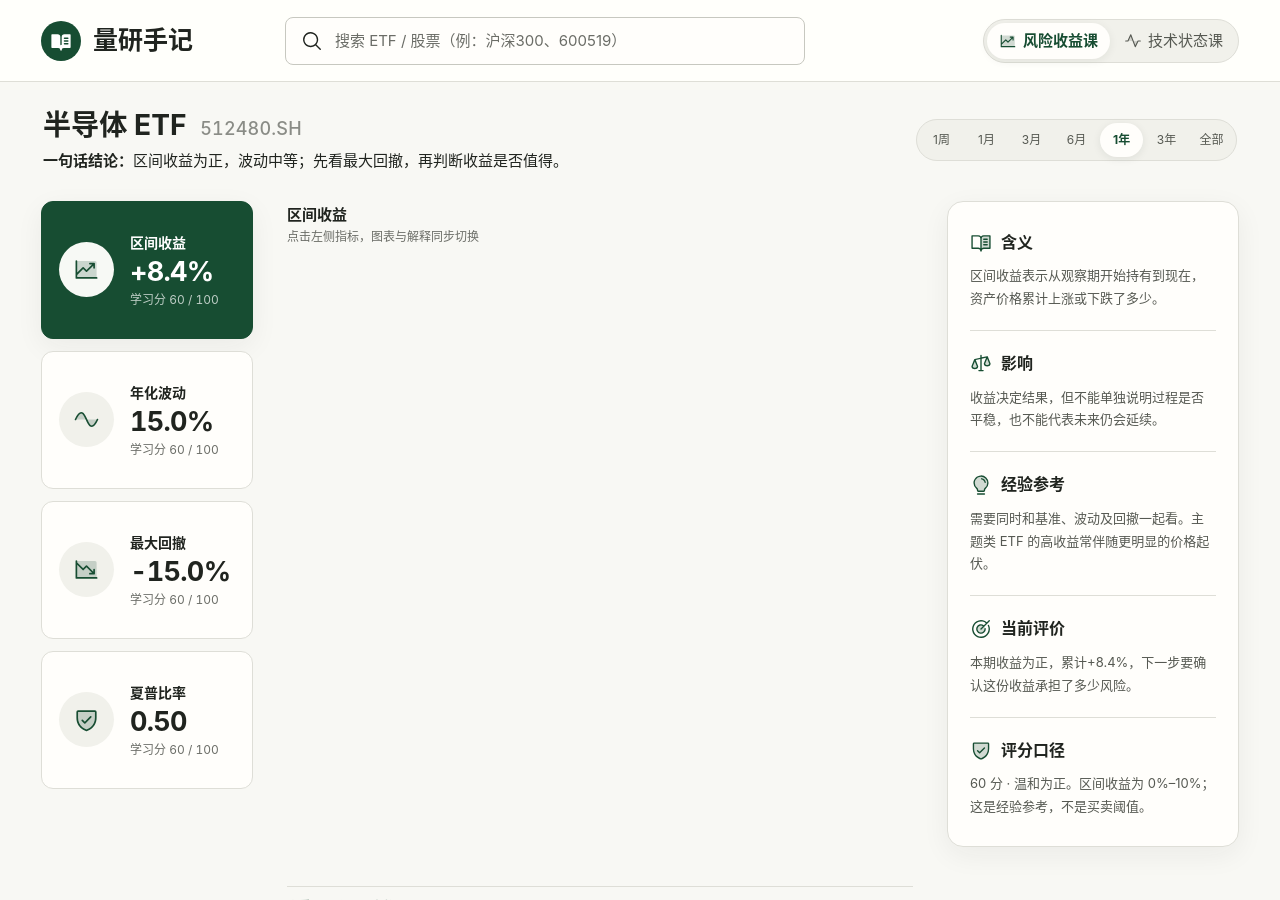
App › keeps current research visible when a new code is invalid
Expected: the heading "半导体 ETF 512480.SH" is shown, [43, 108, 302, 142]
Type "bad-code" into the field named "证券代码或名称" at [561, 41], box [333, 28, 789, 53]
Then press Enter
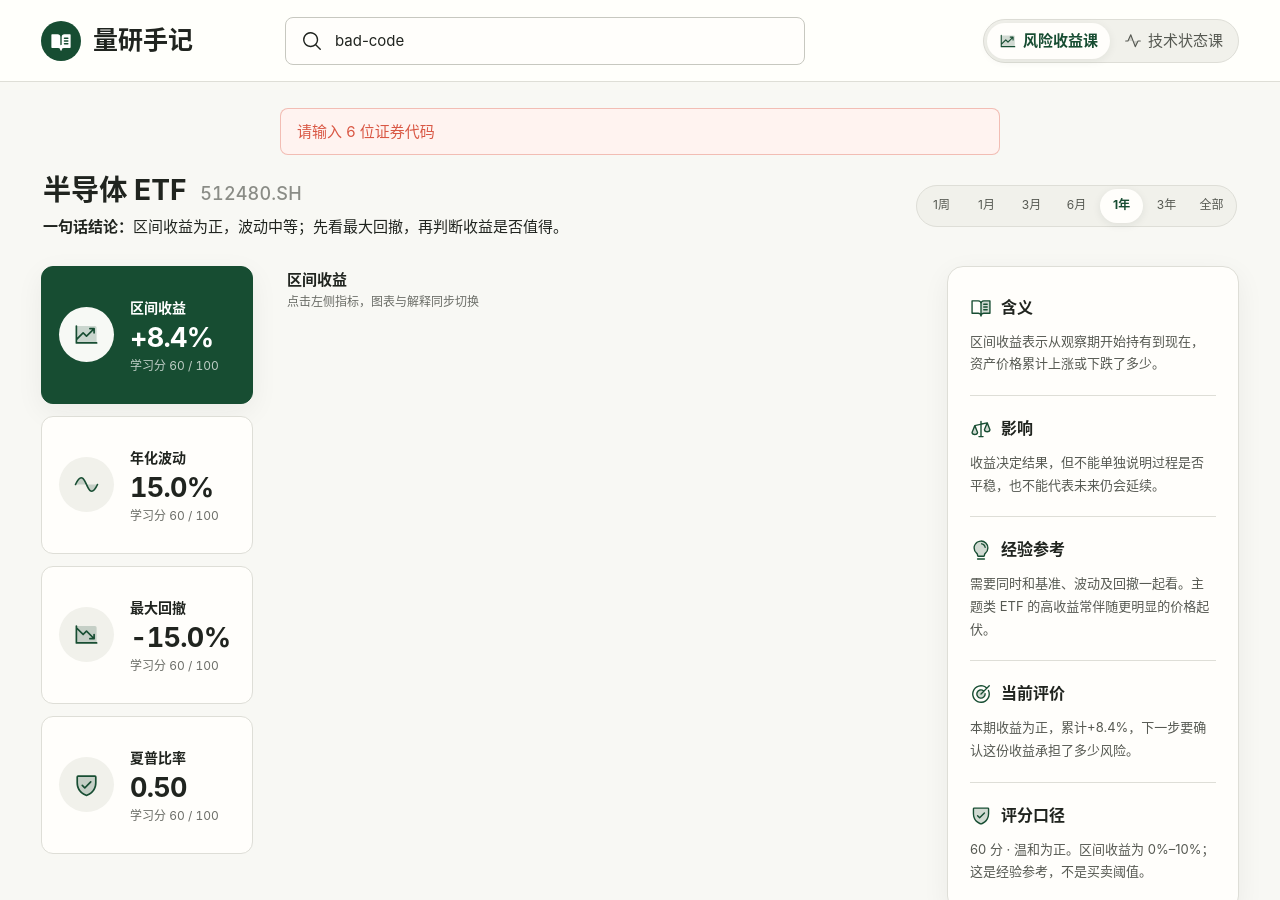
Expected: the heading "半导体 ETF 512480.SH" is shown, [43, 173, 302, 207]
Expected: the text "请输入 6 位证券代码" is shown, [297, 122, 435, 141]
